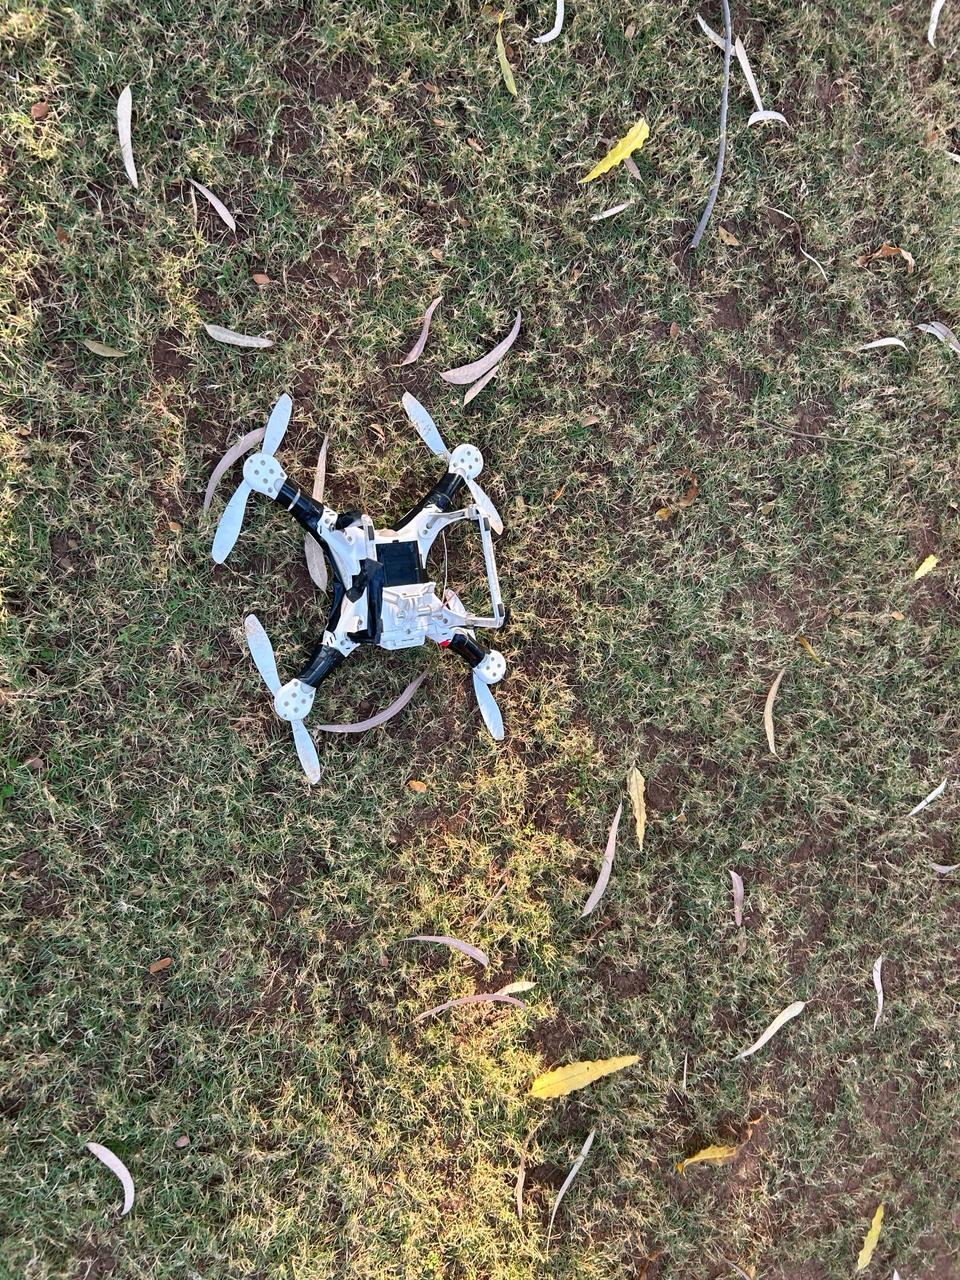drone: (182, 380, 533, 775)
